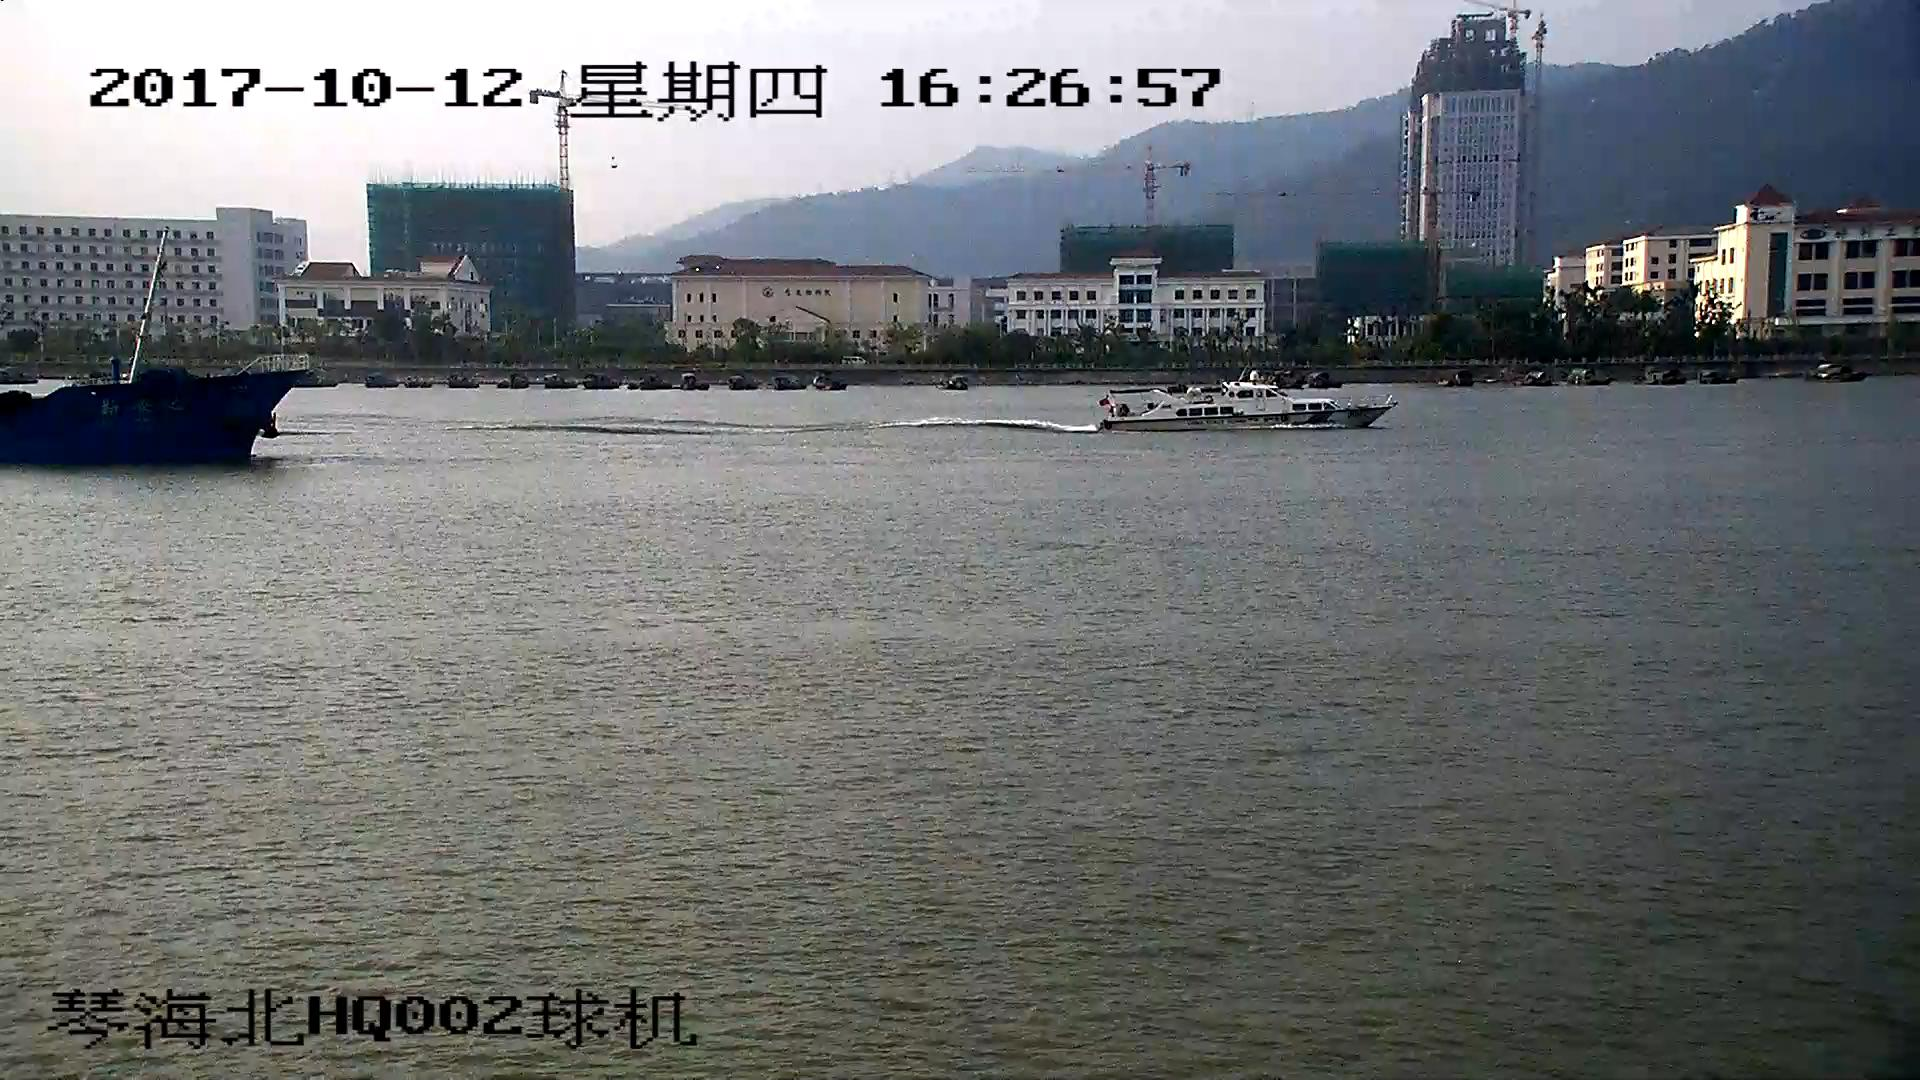bulk cargo carrier: (1, 358, 309, 467)
passenger ship: (1090, 372, 1387, 428)
